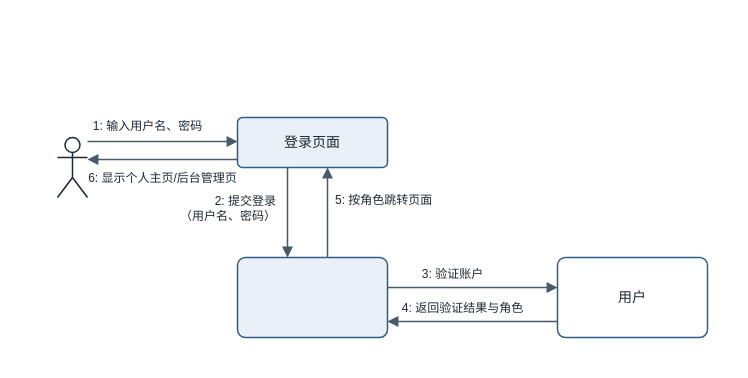
This 748x378 diagram has some shape labels left out. The shapes that lost their labels are listed below. From the top down, each one's box as (x1, y1, x2, y2) in pixels, then its label:
(56, 136, 88, 198): 普通用户
(236, 256, 388, 338): 登录控制器
